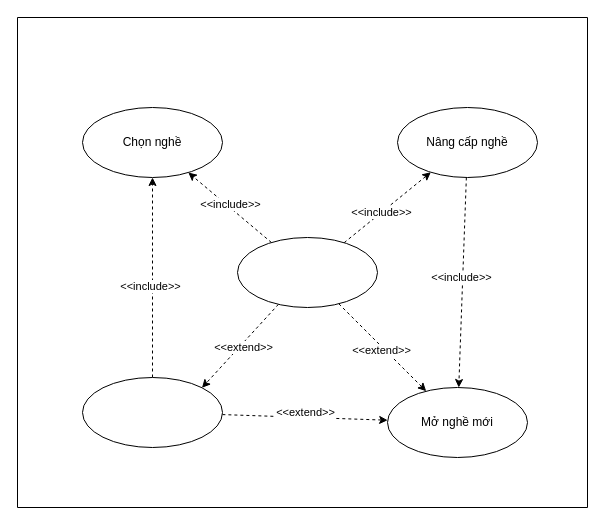
This 605x525 diagram has some shape labels left out. The box of each missing label's shape, as (x1, y1, x2, y2) in pixels:
Xem thông tin nghề: (236, 236, 378, 308)
Đổi nghề: (82, 376, 222, 448)
